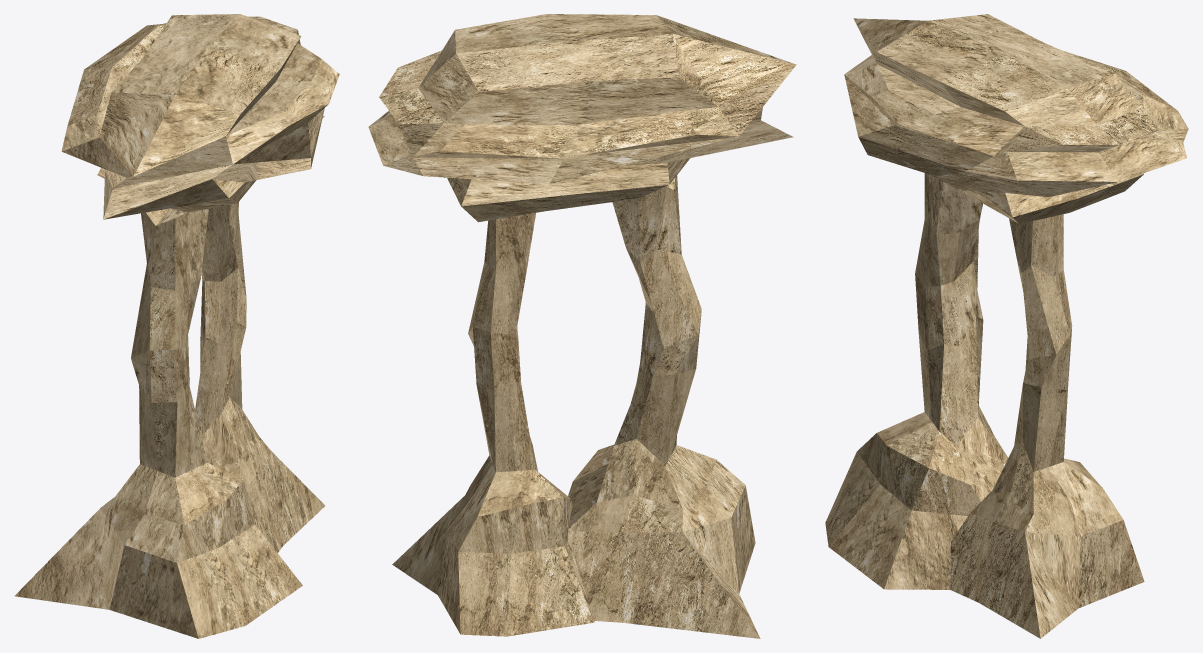
File: rock-set-desert-05.dae
3 renders of one model, left to right at view 1: azimuth 30°, elevation 25°; view 2: azimuth 150°, elevation 25°; view 3: azimuth 270°, elevation 25°, orthographic. The views are drawn at different scales.
Visible parts, largest first — view 1: Cube_007; view 2: Cube_007; view 3: Cube_007.
Boxes of the visible parts, x1=… form: Cube_007: x1=14, y1=14, x2=339, y2=638; Cube_007: x1=368, y1=14, x2=796, y2=638; Cube_007: x1=825, y1=14, x2=1188, y2=638.
Bounding box in the file's own units: 0.996 × 0.934 × 1.47.
